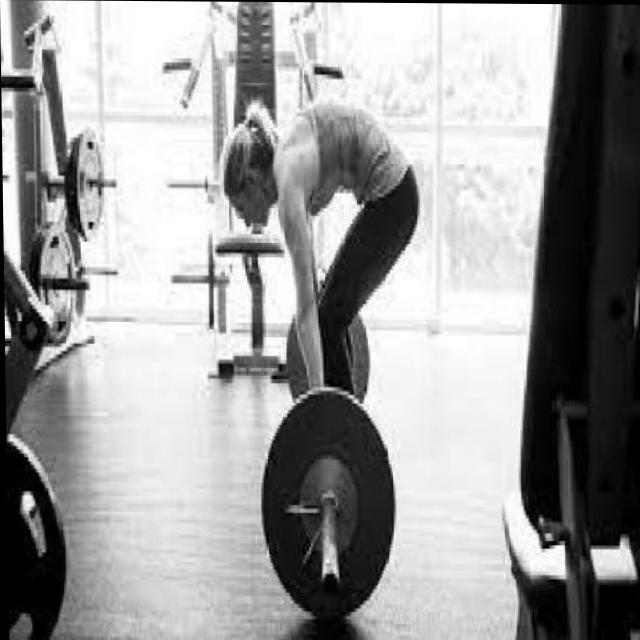barbell: (256, 382, 401, 627)
